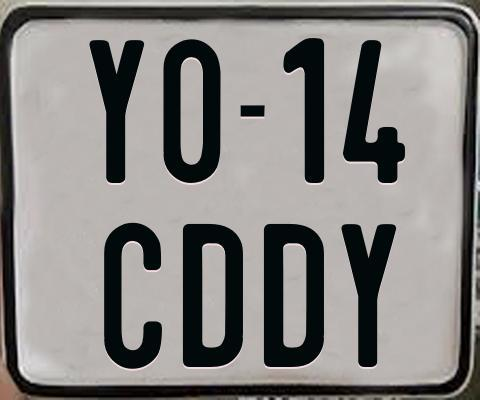0: (163, 36, 226, 181)
1: (280, 38, 324, 189)
4: (343, 39, 405, 183)
C: (102, 223, 166, 374)
D: (261, 224, 324, 369), (180, 224, 240, 370)
Y: (340, 221, 400, 365), (89, 37, 145, 184)
